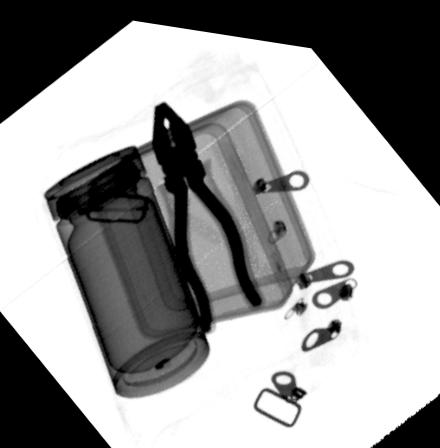Pliers: (150, 94, 266, 329)
